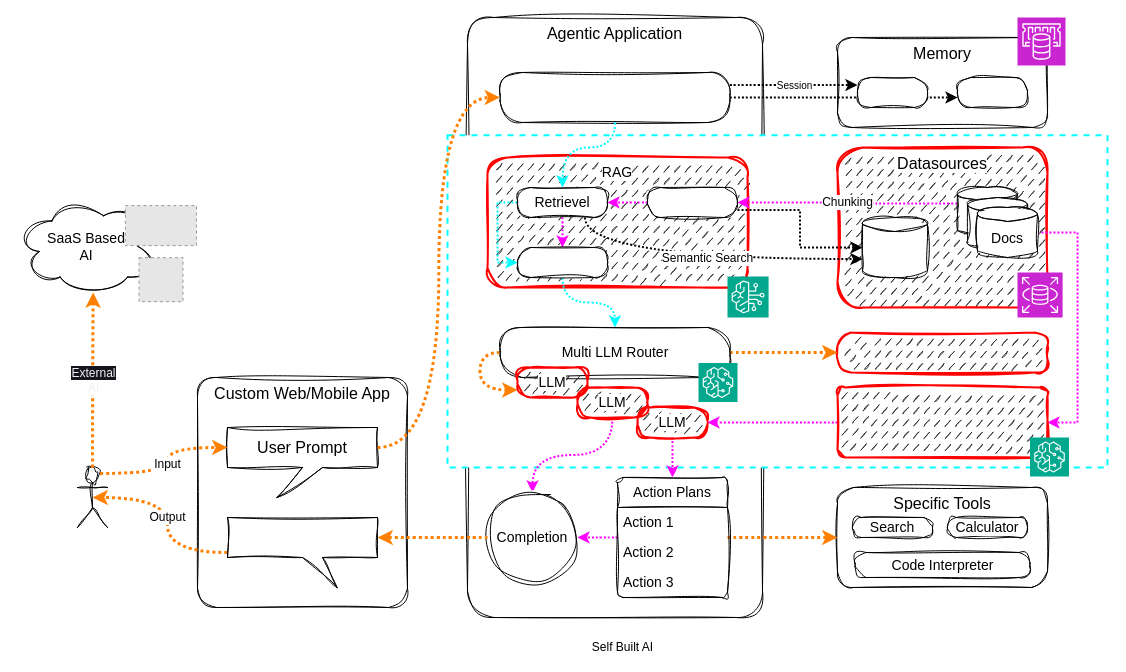
This 1126x672 diagram has some shape labels left out. Grey dashed boxes stand in for pictures. The shapes that lost their labels are listed below. From the top down, each one's centre as x and y in pixels, then its label:
At pixel 614 97: "Contextual Memory".
At pixel 892 92: "STM".
At pixel 992 92: "LTM".
At pixel 692 202: "Embedding".
At pixel 562 262: "Augmented".
At pixel 895 247: "Vectors".
At pixel 942 352: "Other Agents".
At pixel 942 422: "Fine Tunning / Training / Inferencing".
At pixel 92 497: "AI App Users".
At pixel 302 552: "AI Response".
